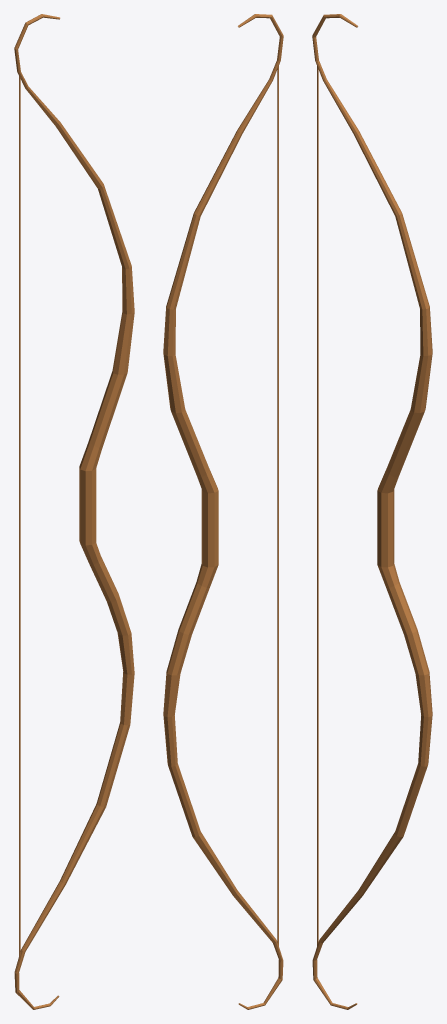
Rendered from Bow.fbx.
3 views of the same model, side by side, from view 1: azimuth 30°, elevation 25°; view 2: azimuth 210°, elevation 25°; view 3: azimuth 330°, elevation 25° (orthographic).
Visible parts, largest first — view 1: Cylinder; view 2: Cylinder; view 3: Cylinder.
Boxes of the visible parts, x1,y1,x2,y2 form: Cylinder: (14, 14, 134, 1009); Cylinder: (163, 14, 283, 1009); Cylinder: (312, 14, 432, 1009).
Bounding box in the file's own units: 121 × 959 × 15.23.
